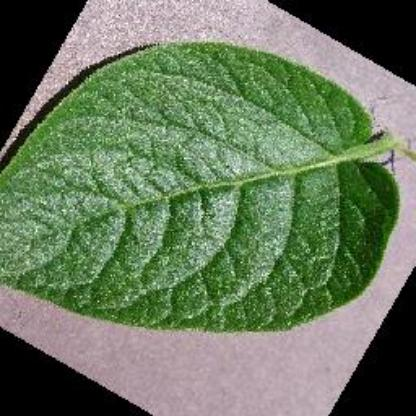Healthy-plant: (5, 36, 399, 338)
